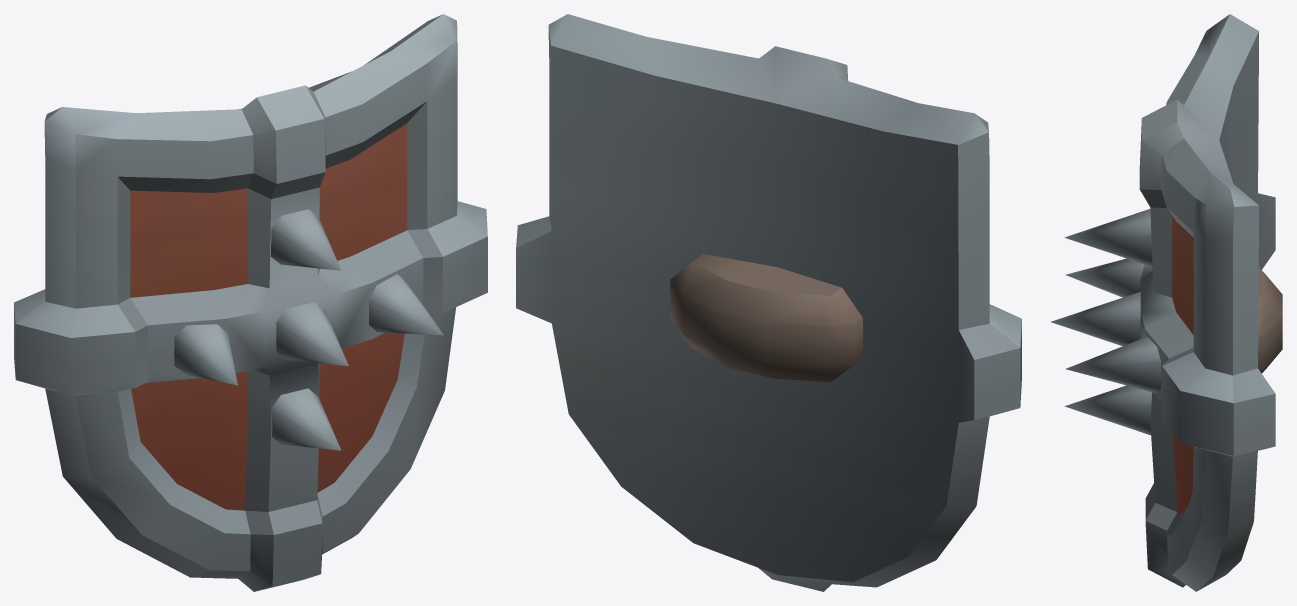
File: shield_spikes.glb
The picture shows the model from 3 angles, left to right: view 1: azimuth 30°, elevation 25°; view 2: azimuth 150°, elevation 25°; view 3: azimuth 270°, elevation 25°; orthographic projection. The views are drawn at different scales.
Parts seen in each view (by area): view 1: shield_spikes; view 2: shield_spikes; view 3: shield_spikes.
Part boxes in pixels (x1,y1,x2,y2): shield_spikes: [14, 14, 487, 591]; shield_spikes: [516, 14, 1021, 591]; shield_spikes: [1051, 14, 1282, 591].
Size of the model in its own units: 1.01 by 1.04 by 0.4598.
1 material, 1 textured.
